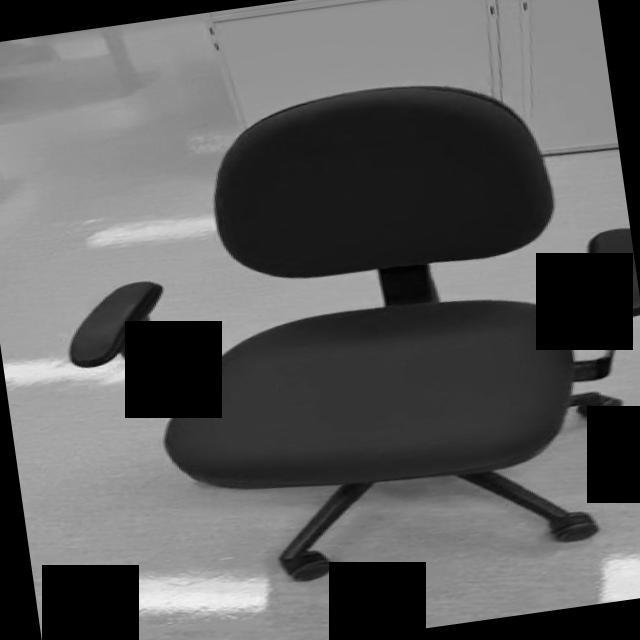chair: (38, 55, 640, 608)
